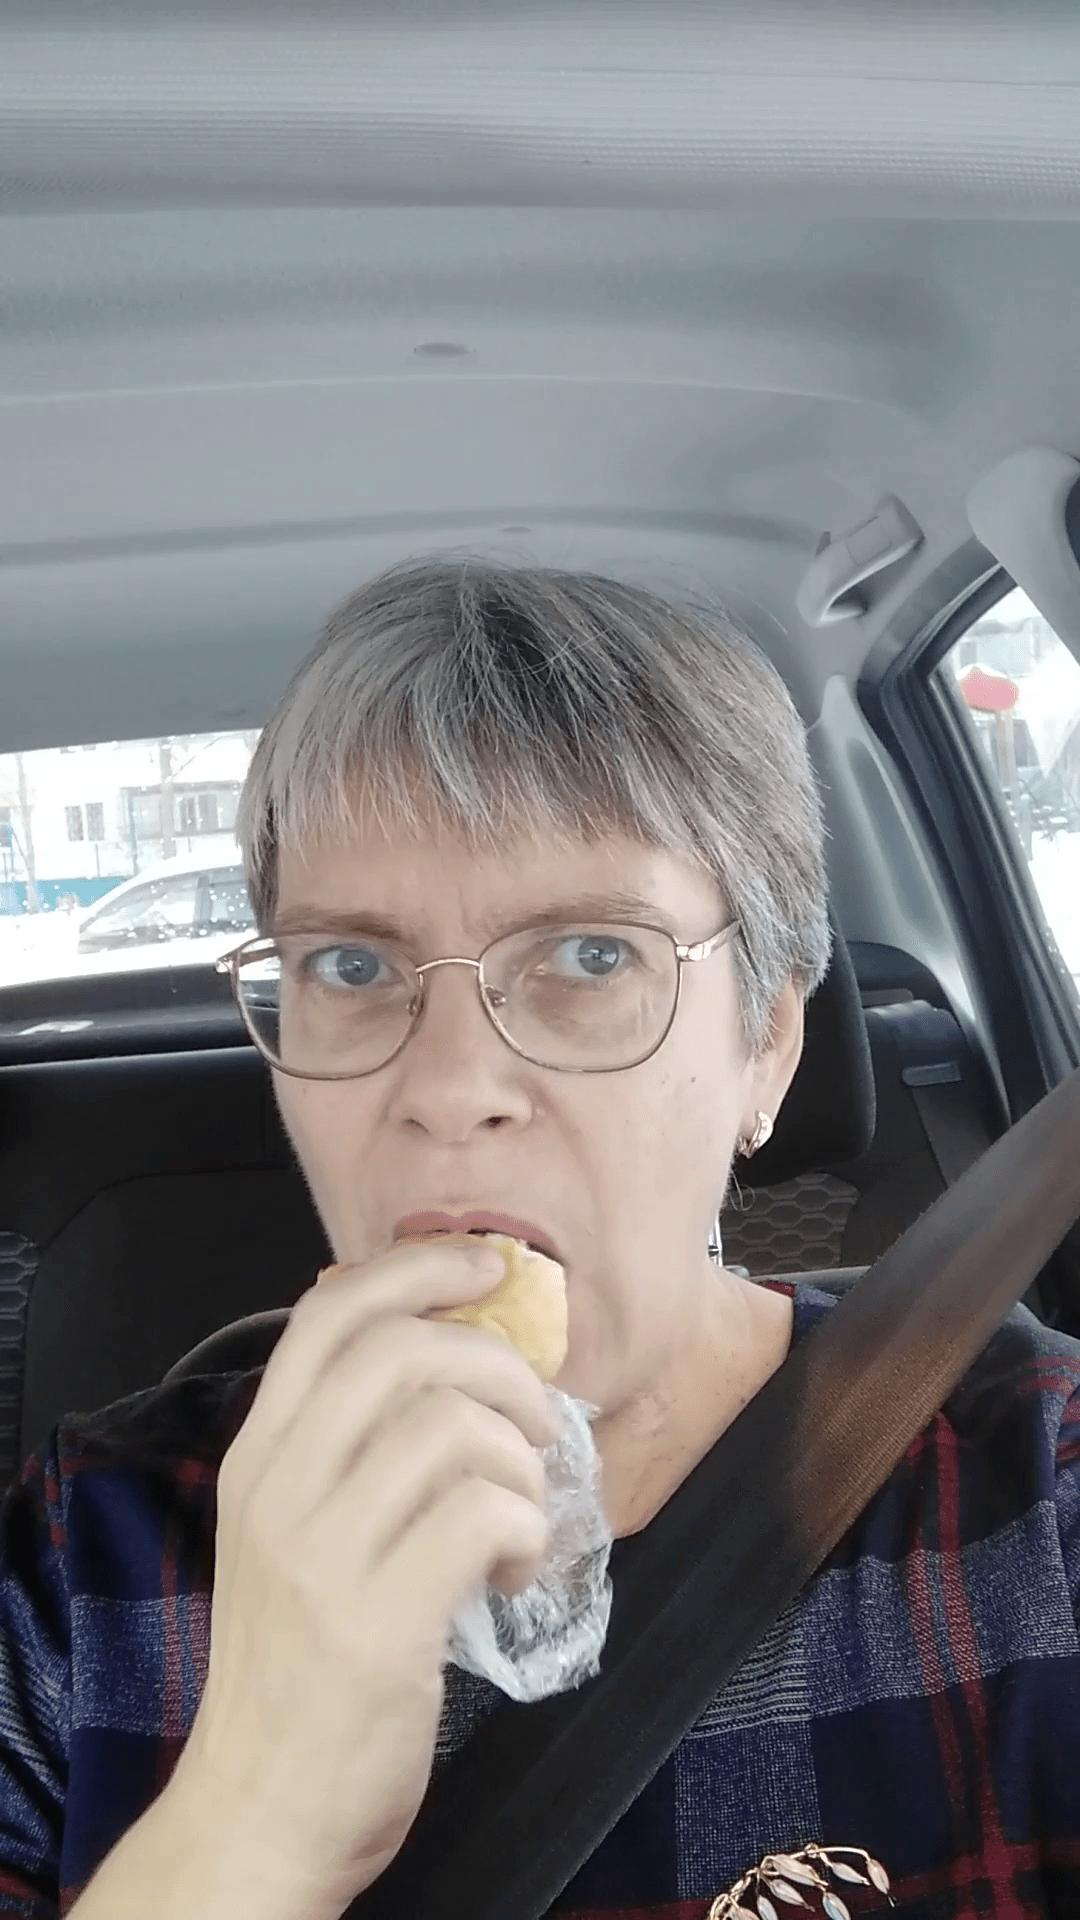Eating: (357, 1178, 622, 1717)
